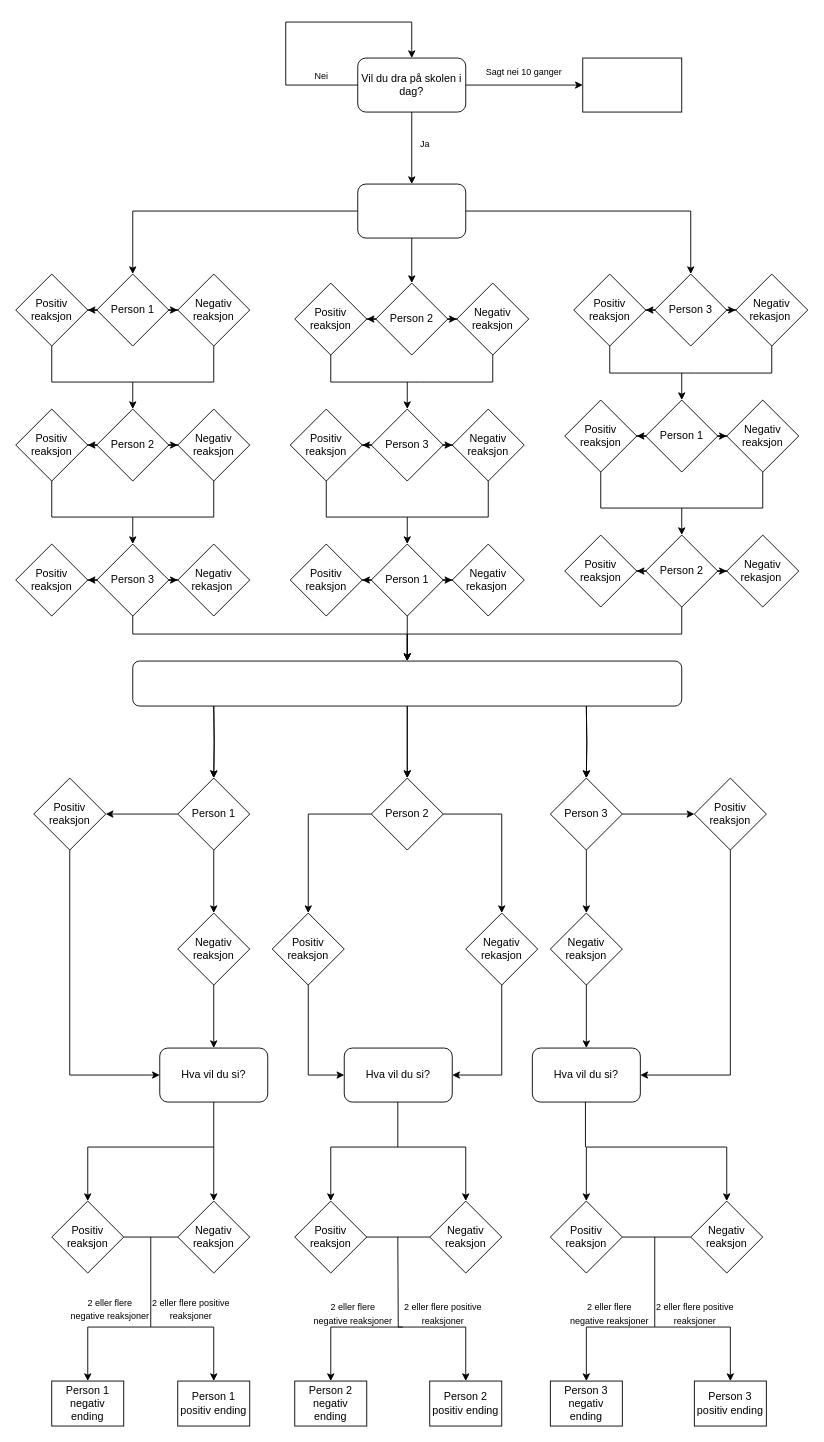
Some shapes in this 824 by 1442 pixel diagram are drawn without their labels. Each missing label, with the centre of its shape:
Du dro ikke på skolen. God ending?: point 632,84
Hvem vil du bli litt bedre kjent med?: point 407,683
Hvem vil du snakke med?: point 411,210
